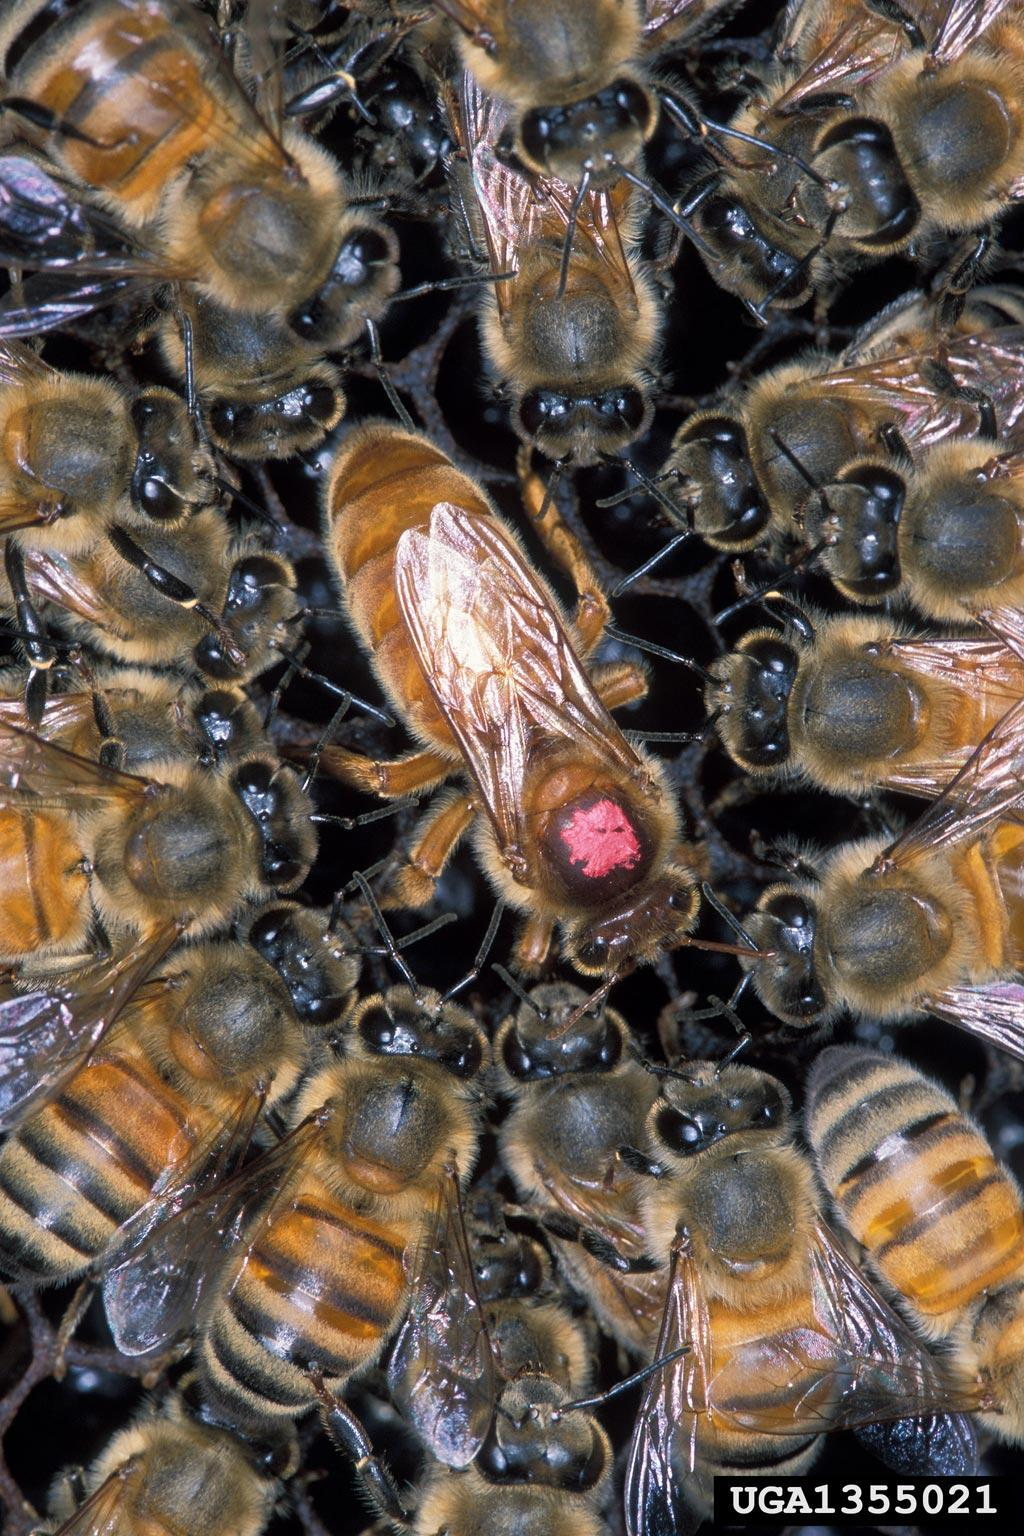Apis-mellifera-scutellata: (303, 402, 726, 961), (0, 861, 416, 1375), (158, 946, 519, 1474), (0, 0, 448, 376), (1, 0, 439, 373), (677, 0, 1024, 351), (630, 1008, 861, 1527), (0, 263, 306, 626), (782, 989, 1024, 1447), (0, 701, 366, 976), (485, 943, 686, 1393), (723, 790, 1024, 1065), (696, 575, 1024, 803), (0, 471, 304, 687), (773, 425, 1024, 597)
